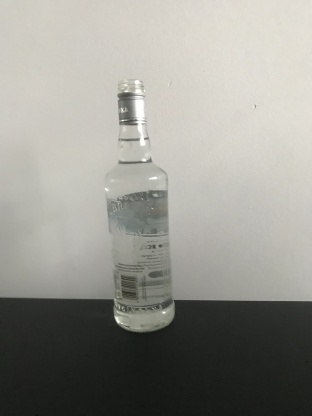nakretka: (115, 78, 147, 125)
